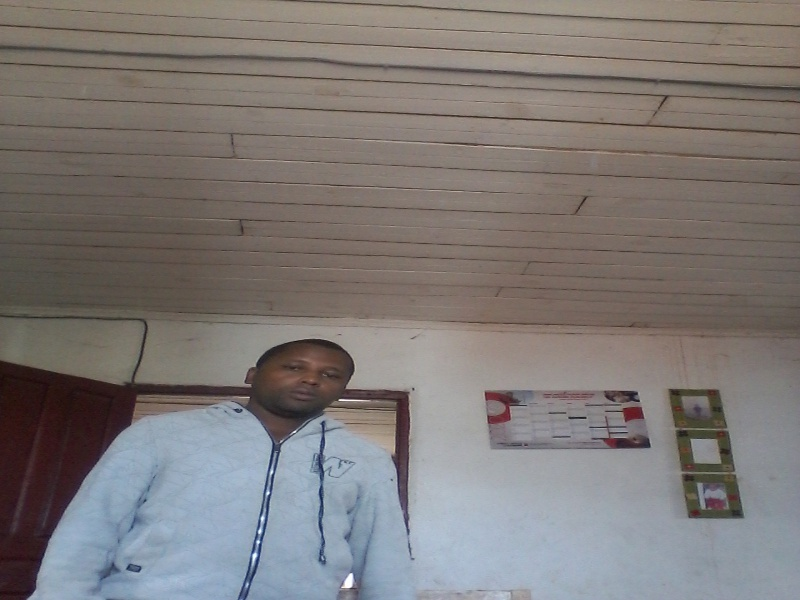TsisyArotava: (239, 324, 355, 433)
